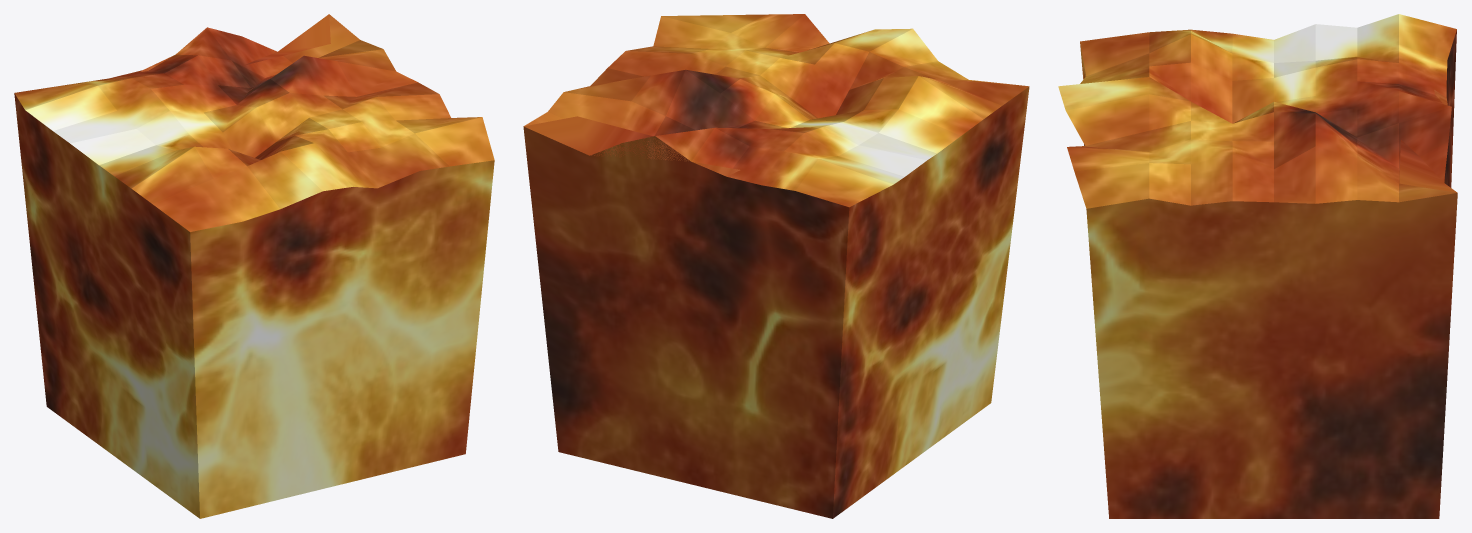
File: explosion_cube.glb
3 views of the same model, side by side, from view 1: azimuth 30°, elevation 25°; view 2: azimuth 150°, elevation 25°; view 3: azimuth 270°, elevation 25° (orthographic). The views are drawn at different scales.
Visible parts, largest first — view 1: Cube; view 2: Cube; view 3: Cube.
Boxes of the visible parts, x1,y1,x2,y2 form: Cube: [14, 14, 494, 518]; Cube: [523, 14, 1029, 518]; Cube: [1058, 14, 1457, 518].
Bounding box in the file's own units: 0.6422 × 0.6191 × 0.6052.
Materials: 1 (1 with a texture image).
